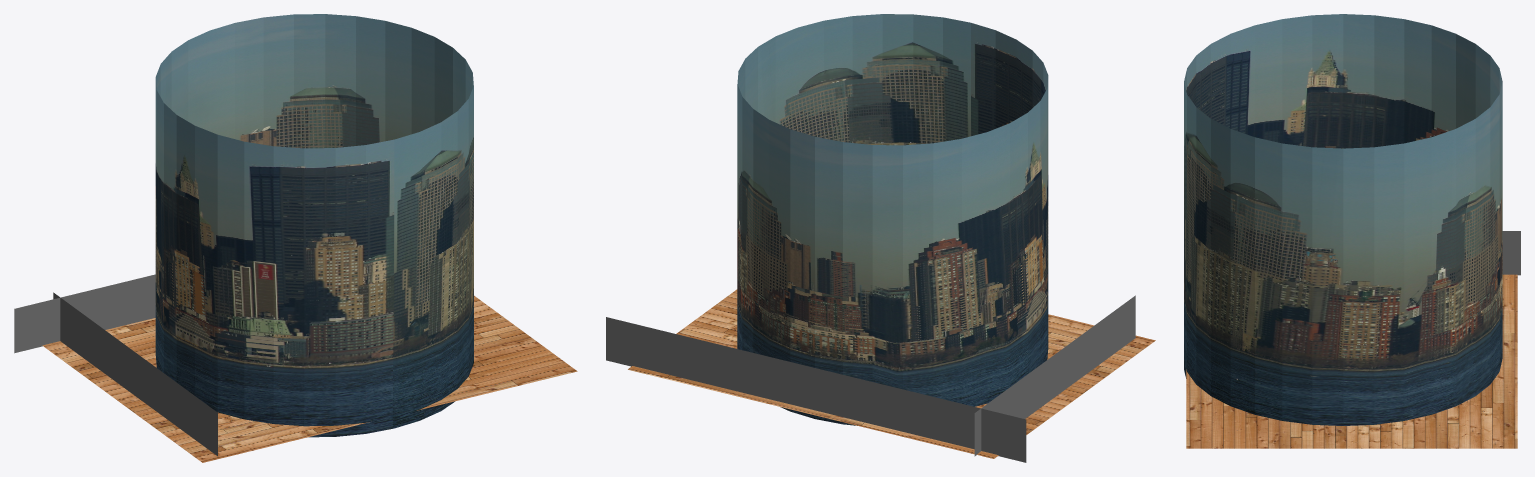
Rendered from garching_kitchen.dae.
3 views of the same model, side by side, from view 1: azimuth 30°, elevation 25°; view 2: azimuth 150°, elevation 25°; view 3: azimuth 270°, elevation 25° (orthographic). The views are drawn at different scales.
Visible parts, largest first — view 1: Cylinder, Mesh; view 2: Cylinder, Mesh; view 3: Cylinder, Mesh.
Part boxes in pixels (<box>): Cylinder: <box>155,14,473,437</box>; Mesh: <box>14,274,577,462</box>; Cylinder: <box>737,14,1048,425</box>; Mesh: <box>606,289,1155,462</box>; Cylinder: <box>1184,14,1502,425</box>; Mesh: <box>1186,231,1520,448</box>.
Bounding box in the file's own units: 44.95 × 30.51 × 29.34.
7 materials, 2 textured.
